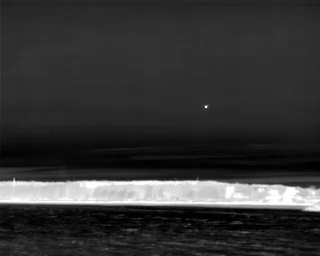HELICOPTER: (202, 102, 212, 113)
